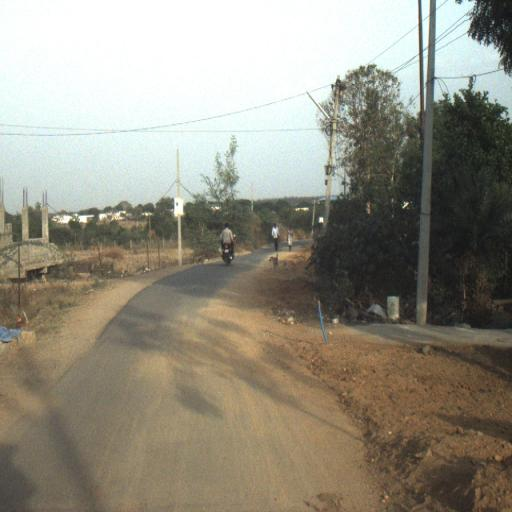street_light_0: (306, 90, 337, 137)
